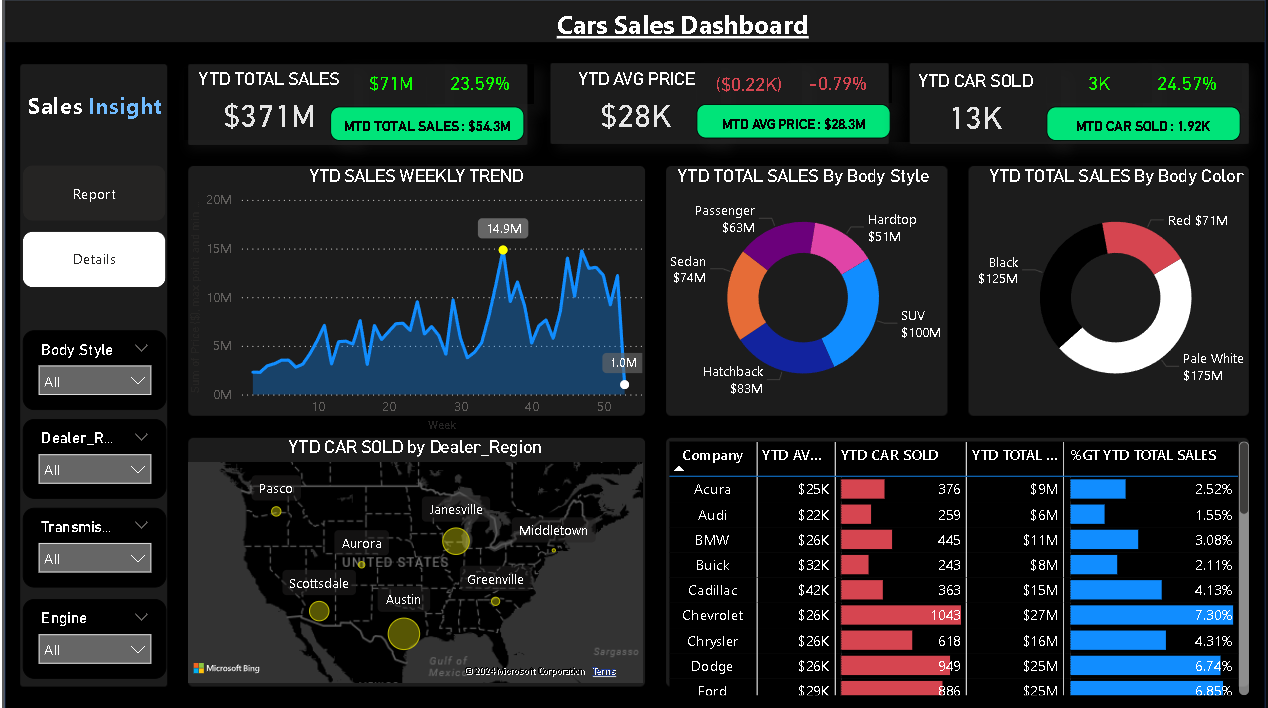

The page's visual inventory and layout, read from the dashboard file:
{"tool":"powerbi","page":{"name":"Report","canvas":[1280,720],"ordinal":0},"visuals":[{"type":"card","title":"YTD TOTAL SALES","fields":{"Values":["car_data.YTD TOTAL SALES"]},"box":[209.5,84.5,161.9,69],"z":0},{"type":"card","title":"SALES  DIFFRENCE","fields":{"Values":["car_data.Sales Diffrence"]},"box":[357.1,81,101.2,38.1],"z":1000},{"type":"card","title":"SALES  DIFFRENCE","fields":{"Values":["car_data.YOY SALES GROWTH"]},"box":[440.5,81,102.4,38.1],"z":2000},{"type":"card","title":"YTD TOTAL SALES","fields":{"Values":["car_data.MTD KPI"]},"box":[348.2,121.3,184.9,32.4],"z":3000},{"type":"card","title":"YTD AVG PRICE","fields":{"Values":["car_data.YTD AVG PRICE"]},"box":[559.5,84.5,161.9,69],"z":4000},{"type":"card","title":"SALES  DIFFRENCE","fields":{"Values":["car_data.AVG PRICE DIFF"]},"box":[697.6,81.7,100.9,37.2],"z":5000},{"type":"card","title":"SALES  DIFFRENCE","fields":{"Values":["car_data.YOY AVG PRICE GROWTH"]},"box":[780.5,80.5,102.1,37.2],"z":6000},{"type":"card","title":"YTD TOTAL SALES","fields":{"Values":["car_data.MTD AVG KPI"]},"box":[697.6,118.9,184.9,32.4],"z":7000},{"type":"card","title":"YTD CAR SOLD","fields":{"Values":["car_data.YTD CAR SOLD"]},"box":[882.6,86.5,162.1,68.4],"z":8000},{"type":"card","title":"SALES  DIFFRENCE","fields":{"Values":["car_data.Cars Sold Diff"]},"box":[1031.4,80.5,100.9,37.2],"z":9000},{"type":"card","title":"SALES  DIFFRENCE","fields":{"Values":["car_data.YOY CARS SOLD GROWTH"]},"box":[1114.3,80.5,102.1,37.2],"z":10000},{"type":"card","title":"YTD TOTAL SALES","fields":{"Values":["car_data.kpi car sold Growth"]},"box":[1031.4,121.3,184.9,32.4],"z":11000},{"type":"areaChart","title":"YTD SALES WEEKLY TREND","fields":{"Category":["CalenderTable.Week"],"Y":["Sum(car_data.Price ($))","car_data.max point","car_data.min point"]},"box":[209.5,177.4,441.7,258.3],"z":12000},{"type":"donutChart","title":"YTD TOTAL SALES By Body Style","fields":{"Category":["car_data.Body Style"],"Y":["car_data.YTD TOTAL SALES"]},"box":[665.5,177.4,267.9,233.3],"z":13000},{"type":"donutChart","title":"YTD TOTAL SALES By Body Color","fields":{"Category":["car_data.Color","car_data.Body Style"],"Y":["car_data.YTD TOTAL SALES"]},"box":[963.1,177.4,267.9,233.3],"z":14000},{"type":"map","fields":{"Category":["car_data.Dealer_Region"],"Size":["car_data.YTD CAR SOLD"]},"box":[208.3,435.7,442.9,240.5],"z":15000},{"type":"tableEx","fields":{"Values":["car_data.Company","car_data.YTD AVG PRICE","car_data.YTD CAR SOLD","car_data.YTD TOTAL SALES","Divide(car_data.YTD TOTAL SALES, ScopedEval(car_data.YTD TOTAL SALES, []))"]},"box":[665.5,435.7,563.1,251.2],"z":16000},{"type":"textbox","box":[559.5,21.4,271.4,65.5],"z":17000},{"type":"slicer","fields":{"Values":["car_data.Body Style"]},"box":[56,334.5,136.9,76.2],"z":18000},{"type":"slicer","fields":{"Values":["car_data.Dealer_Region"]},"box":[56,419,136.9,76.2],"z":19000},{"type":"slicer","fields":{"Values":["car_data.Transmission"]},"box":[56,503.6,136.9,76.2],"z":20000},{"type":"slicer","fields":{"Values":["car_data.Engine"]},"box":[56,590.5,136.9,76.2],"z":21000},{"type":"textbox","box":[56,100,153.6,51.2],"z":22000},{"type":"pageNavigator","box":[56,177.4,136.9,116.7],"z":23000}]}

Visuals, with their boxes in screenshot pixels (x1, y1, x2, y2), scaled from the page's 1280x720 canvas onto the 1268x708 screenshot:
"YTD TOTAL SALES" card: <box>208,83,368,151</box>
"SALES  DIFFRENCE" card: <box>354,80,454,117</box>
"SALES  DIFFRENCE" card: <box>436,80,538,117</box>
"YTD TOTAL SALES" card: <box>345,119,528,151</box>
"YTD AVG PRICE" card: <box>554,83,715,151</box>
"SALES  DIFFRENCE" card: <box>691,80,791,117</box>
"SALES  DIFFRENCE" card: <box>773,79,874,116</box>
"YTD TOTAL SALES" card: <box>691,117,874,149</box>
"YTD CAR SOLD" card: <box>874,85,1035,152</box>
"SALES  DIFFRENCE" card: <box>1022,79,1122,116</box>
"SALES  DIFFRENCE" card: <box>1104,79,1205,116</box>
"YTD TOTAL SALES" card: <box>1022,119,1205,151</box>
"YTD SALES WEEKLY TREND" areaChart: <box>208,174,645,428</box>
"YTD TOTAL SALES By Body Style" donutChart: <box>659,174,925,404</box>
"YTD TOTAL SALES By Body Color" donutChart: <box>954,174,1219,404</box>
map - car_data.Dealer_Region x car_data.YTD CAR SOLD: <box>206,428,645,665</box>
tableEx - car_data.Company x car_data.YTD AVG PRICE: <box>659,428,1217,675</box>
textbox: <box>554,21,823,85</box>
slicer - car_data.Body Style: <box>55,329,191,404</box>
slicer - car_data.Dealer_Region: <box>55,412,191,487</box>
slicer - car_data.Transmission: <box>55,495,191,570</box>
slicer - car_data.Engine: <box>55,581,191,656</box>
textbox: <box>55,98,208,149</box>
pageNavigator: <box>55,174,191,289</box>
